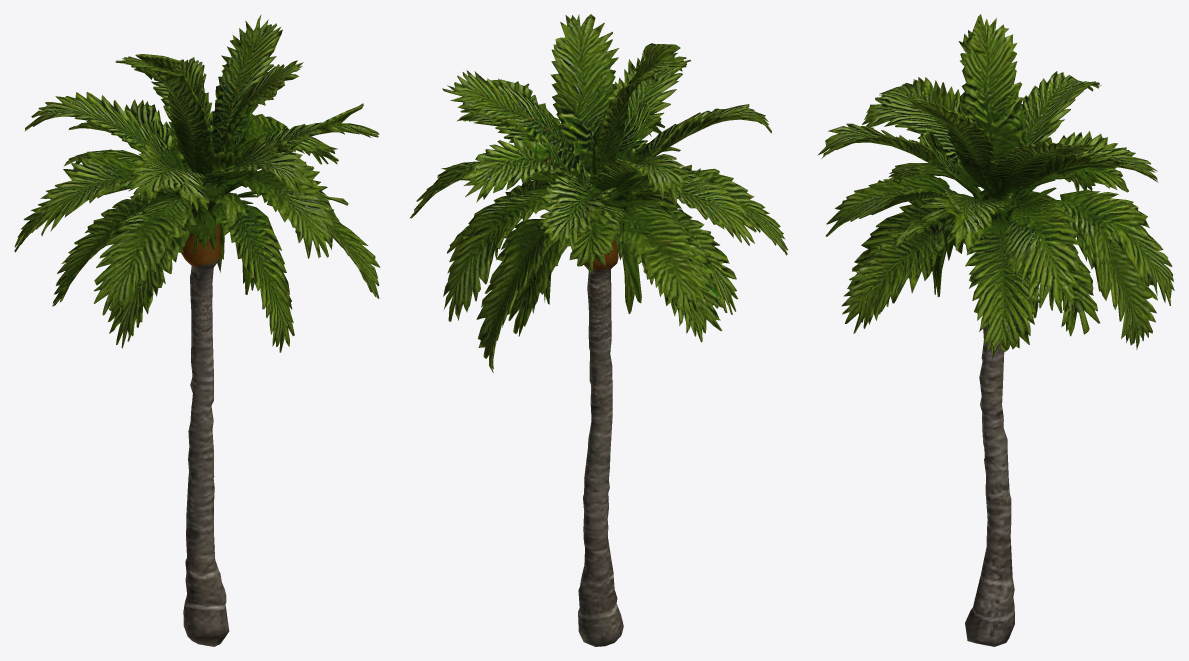
File: palm_a.glb
3 renders of one model, left to right at view 1: azimuth 30°, elevation 25°; view 2: azimuth 150°, elevation 25°; view 3: azimuth 270°, elevation 25°, orthographic. The views are drawn at different scales.
Visible parts, largest first — view 1: tripo_node_b7f2a604-de34-4443-b27d-486ffc5e9d40; view 2: tripo_node_b7f2a604-de34-4443-b27d-486ffc5e9d40; view 3: tripo_node_b7f2a604-de34-4443-b27d-486ffc5e9d40.
Part boxes in pixels (box(x1,y1,x2,y2)): tripo_node_b7f2a604-de34-4443-b27d-486ffc5e9d40: box(14, 14, 380, 646); tripo_node_b7f2a604-de34-4443-b27d-486ffc5e9d40: box(410, 14, 787, 646); tripo_node_b7f2a604-de34-4443-b27d-486ffc5e9d40: box(817, 14, 1174, 646).
Bounding box in the file's own units: 0.5464 × 1 × 0.5461.
Materials: 1 (1 with a texture image).
